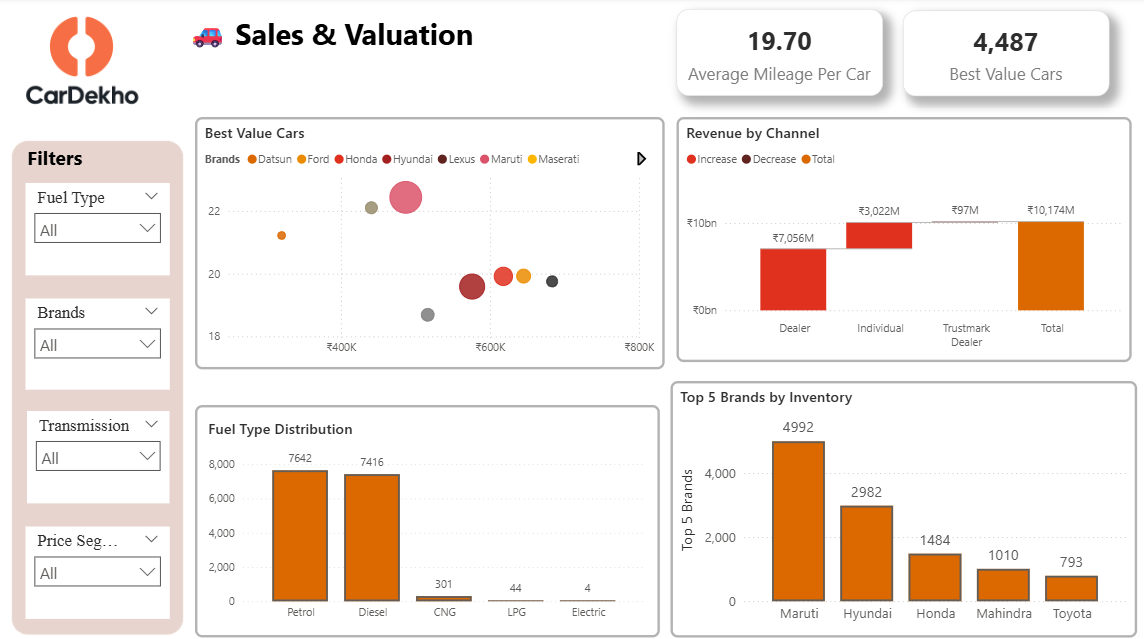

What the dashboard file says about the page in this screenshot:
{"tool":"powerbi","page":{"name":"Page 3","canvas":[1280,720],"ordinal":2},"visuals":[{"type":"waterfallChart","title":"Revenue by Channel","fields":{"Category":["Fact_Sales.seller_type"],"Y":["_Measures.Total Revenue 1"]},"box":[746.6,132.5,502.3,270.8],"z":0,"group":"g1"},{"type":"shape","box":[11.9,157.8,192.2,548.3],"z":0,"group":"g2"},{"type":"image","box":[0,0,180.5,144.8],"z":2000},{"type":"card","fields":{"Values":["Sum(KPI_Summary.avg_mileage)"]},"box":[746.6,13,227.7,96],"z":3000},{"type":"textbox","box":[11.9,157.8,97.7,44.6],"z":4000,"group":"g2"},{"type":"clusteredColumnChart","fields":{"Category":["Fact_Sales.brand"],"Y":["CountNonNull(Fact_Sales.car_id)"]},"box":[740,423.8,515.6,283.5],"z":4000,"group":"g1"},{"type":"textbox","box":[202.1,13.3,407.5,76.2],"z":5000},{"type":"scatterChart","title":"Best Value Cars","fields":{"X":["_Measures.Average Selling Price"],"Y":["Avg(Fact_Sales.mileage)"],"Series":["Fact_Sales.brand"],"Size":["Dim_Brands.Bubble Size"]},"box":[215.3,132.5,518.6,278.7],"z":5001,"group":"g1"},{"type":"card","fields":{"Values":["_Measures.Best Value Cars"]},"box":[997.1,14.6,227.7,94.3],"z":6000},{"type":"group","id":"g1","title":"Group 3","box":[215.3,132.5,1040.3,574.8],"z":7000},{"type":"columnChart","title":"Fuel Type Distribution","fields":{"Category":["Fact_Sales.fuel_type"],"Y":["CountNonNull(Fact_Sales.fuel_type)"]},"box":[215.3,450.6,513.5,256.8],"z":8000},{"type":"slicer","fields":{"Values":["Fact_Sales.fuel_type"]},"box":[28.5,206.2,159,102.3],"z":9000,"group":"g2"},{"type":"slicer","fields":{"Values":["Fact_Sales.brand"]},"box":[28.5,332.6,159,100.4],"z":10000,"group":"g2"},{"type":"slicer","fields":{"Values":["Fact_Sales.transmission_type"]},"box":[30.1,457.2,157.4,102.3],"z":11000,"group":"g2"},{"type":"slicer","fields":{"Values":["Fact_Sales.price_segment"]},"box":[28.5,585.6,159,102.3],"z":12000,"group":"g2"},{"type":"group","id":"g2","title":"Group 1","box":[11.9,157.8,192.2,548.3],"z":12001}]}

Visuals, with their boxes in screenshot pixels (x1, y1, x2, y2), scaled from the page's 1280x720 canvas onto the 1144x639 screenshot:
"Revenue by Channel" waterfallChart: [x1=667, y1=118, x2=1116, y2=358]
shape: [x1=11, y1=140, x2=182, y2=627]
image: [x1=0, y1=0, x2=161, y2=129]
card - Sum(KPI_Summary.avg_mileage): [x1=667, y1=12, x2=871, y2=97]
textbox: [x1=11, y1=140, x2=98, y2=180]
clusteredColumnChart - Fact_Sales.brand x CountNonNull(Fact_Sales.car_id): [x1=661, y1=376, x2=1122, y2=628]
textbox: [x1=181, y1=12, x2=545, y2=79]
"Best Value Cars" scatterChart: [x1=192, y1=118, x2=656, y2=365]
card - _Measures.Best Value Cars: [x1=891, y1=13, x2=1095, y2=97]
"Group 3" group: [x1=192, y1=118, x2=1122, y2=628]
"Fuel Type Distribution" columnChart: [x1=192, y1=400, x2=651, y2=628]
slicer - Fact_Sales.fuel_type: [x1=25, y1=183, x2=168, y2=274]
slicer - Fact_Sales.brand: [x1=25, y1=295, x2=168, y2=384]
slicer - Fact_Sales.transmission_type: [x1=27, y1=406, x2=168, y2=497]
slicer - Fact_Sales.price_segment: [x1=25, y1=520, x2=168, y2=611]
"Group 1" group: [x1=11, y1=140, x2=182, y2=627]
